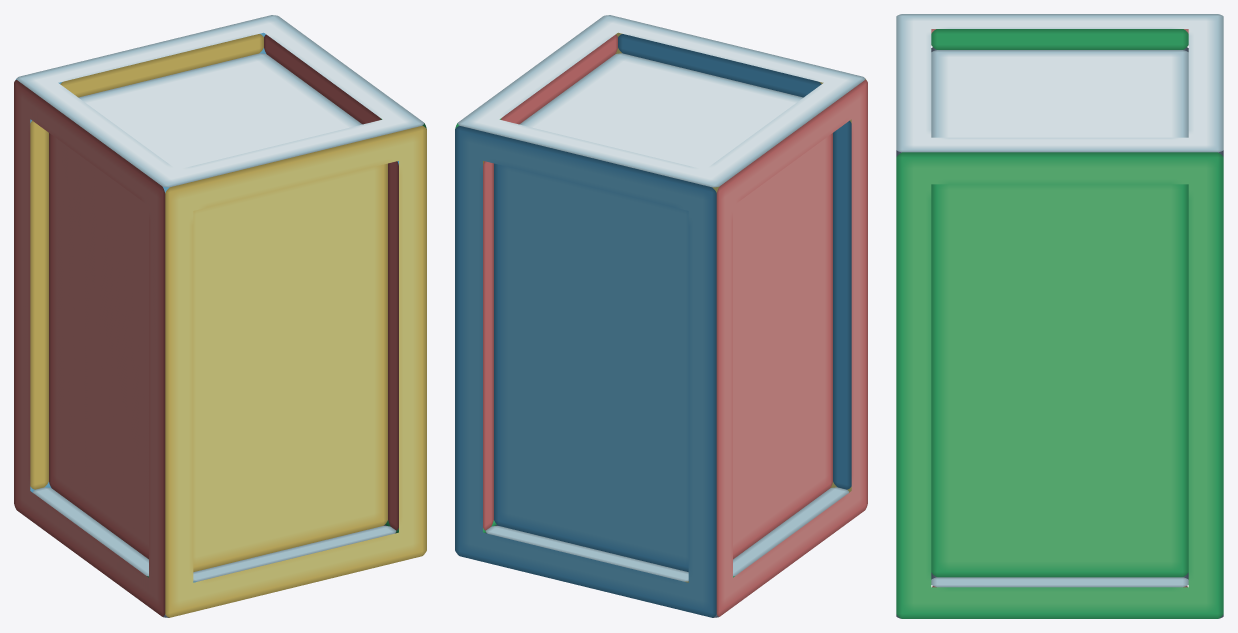
The model's file is crate_m.obj.
3 renders of one model, left to right at view 1: azimuth 30°, elevation 25°; view 2: azimuth 150°, elevation 25°; view 3: azimuth 270°, elevation 25°, orthographic. The views are drawn at different scales.
Visible parts, largest first — view 1: cuboid; view 2: cuboid; view 3: cuboid.
Boxes of the visible parts, x1,y1,x2,y2 form: cuboid: [14, 15, 426, 617]; cuboid: [455, 15, 867, 617]; cuboid: [896, 14, 1223, 618].
Bounding box in the file's own units: 0.875 × 1.38 × 0.875.
1 material, 1 textured.
